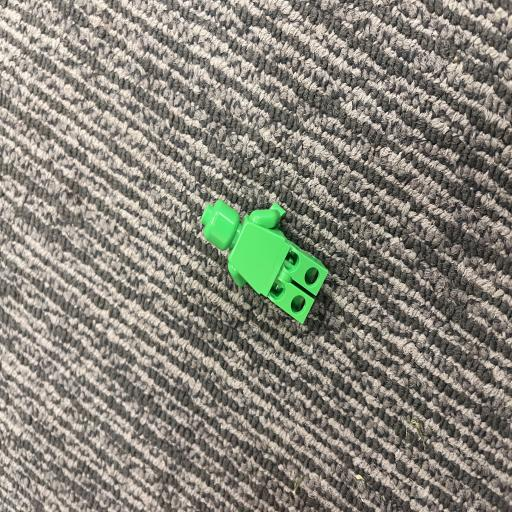Lego-Minifig: (201, 200, 328, 323)
